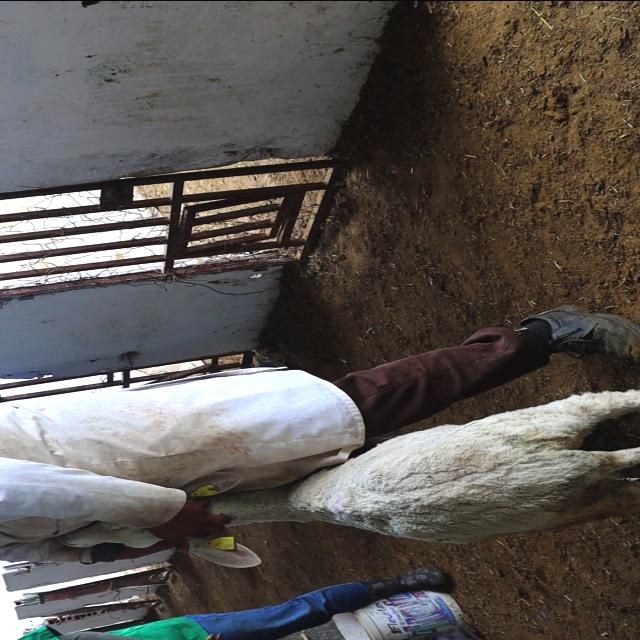Score_1: (210, 389, 639, 543)
